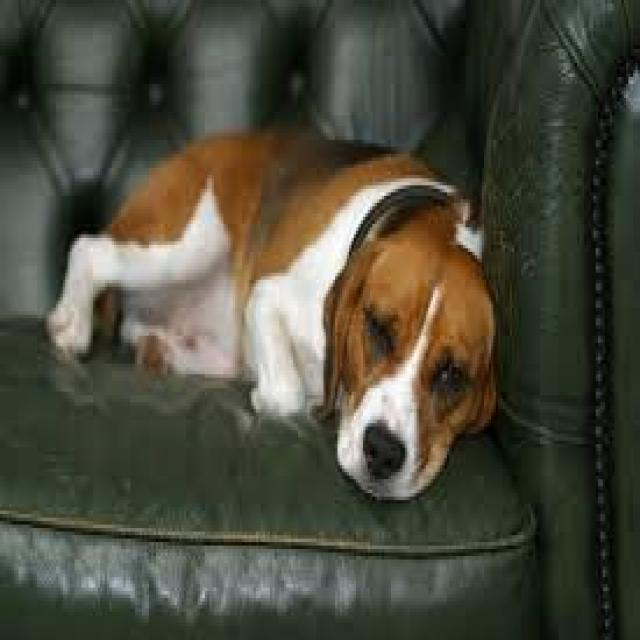Dog: (34, 122, 516, 507)
